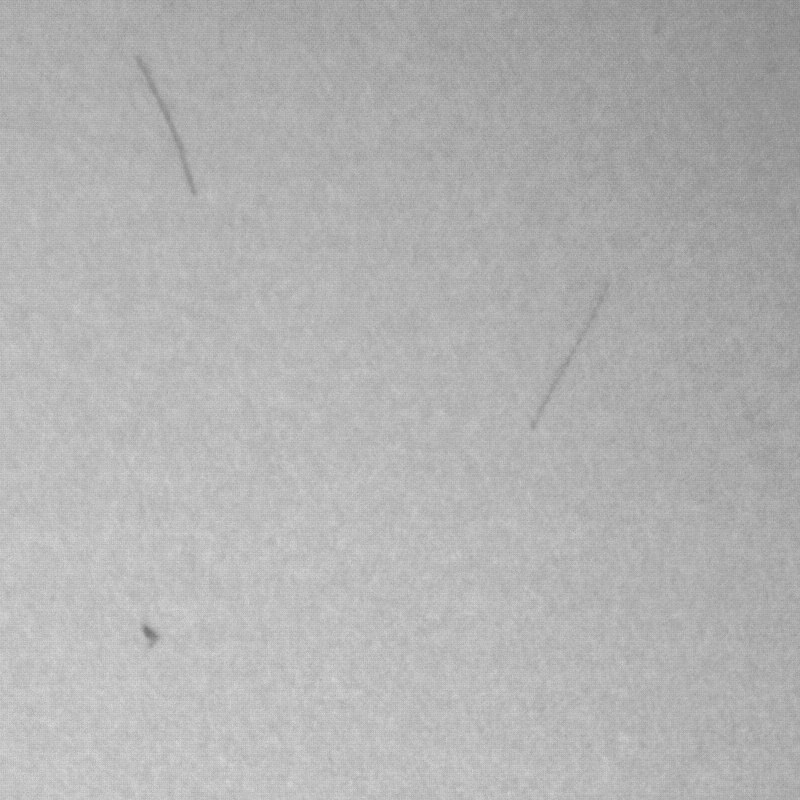defect: (526, 285, 608, 435), (131, 54, 207, 206), (142, 624, 161, 651)
